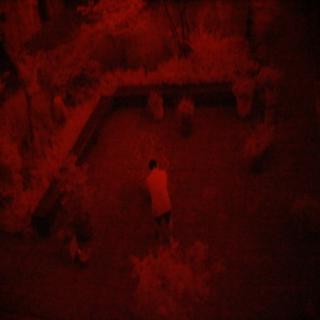person: (137, 154, 185, 241)
